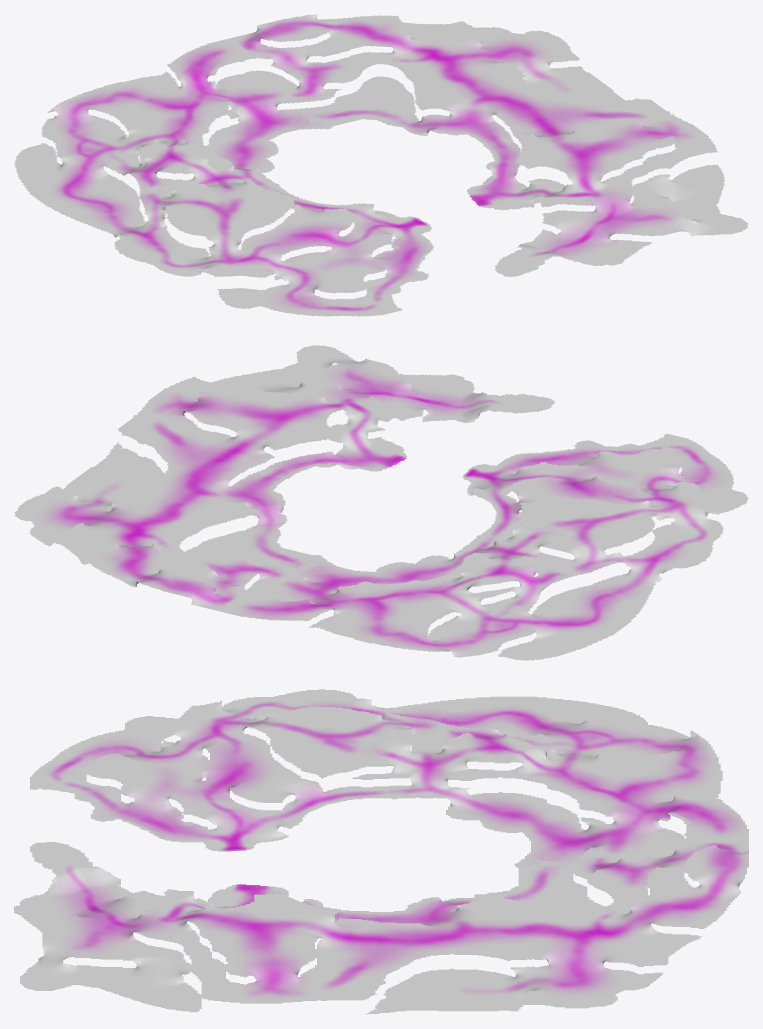
Rendered from environment-bunnysama.fbx.
3 views of the same model, one above another, from view 1: azimuth 30°, elevation 25°; view 2: azimuth 150°, elevation 25°; view 3: azimuth 270°, elevation 25° (orthographic). The views are drawn at different scales.
Visible parts, largest first — view 1: island-bunnysama-northeast, island-bunnysama-northwest, island-bunnysama-southeast, island-bunnysama-southwest; view 2: island-bunnysama-northwest, island-bunnysama-northeast, island-bunnysama-southeast, island-bunnysama-southwest; view 3: island-bunnysama-northeast, island-bunnysama-northwest, island-bunnysama-southeast, island-bunnysama-southwest.
Boxes of the visible parts, box(x1,y1,x2,y2) form: island-bunnysama-northeast: box(228, 14, 625, 146); island-bunnysama-northwest: box(14, 39, 325, 220); island-bunnysama-southeast: box(466, 98, 748, 276); island-bunnysama-southwest: box(76, 183, 433, 316); island-bunnysama-northwest: box(220, 521, 645, 660); island-bunnysama-northeast: box(14, 442, 321, 611); island-bunnysama-southeast: box(117, 345, 555, 477); island-bunnysama-southwest: box(462, 433, 748, 603); island-bunnysama-northeast: box(365, 841, 748, 1014); island-bunnysama-northwest: box(351, 696, 748, 863); island-bunnysama-southeast: box(14, 842, 421, 1012); island-bunnysama-southwest: box(30, 689, 441, 851).
Bounding box in the file's own units: 37700 × 1600 × 36400.
